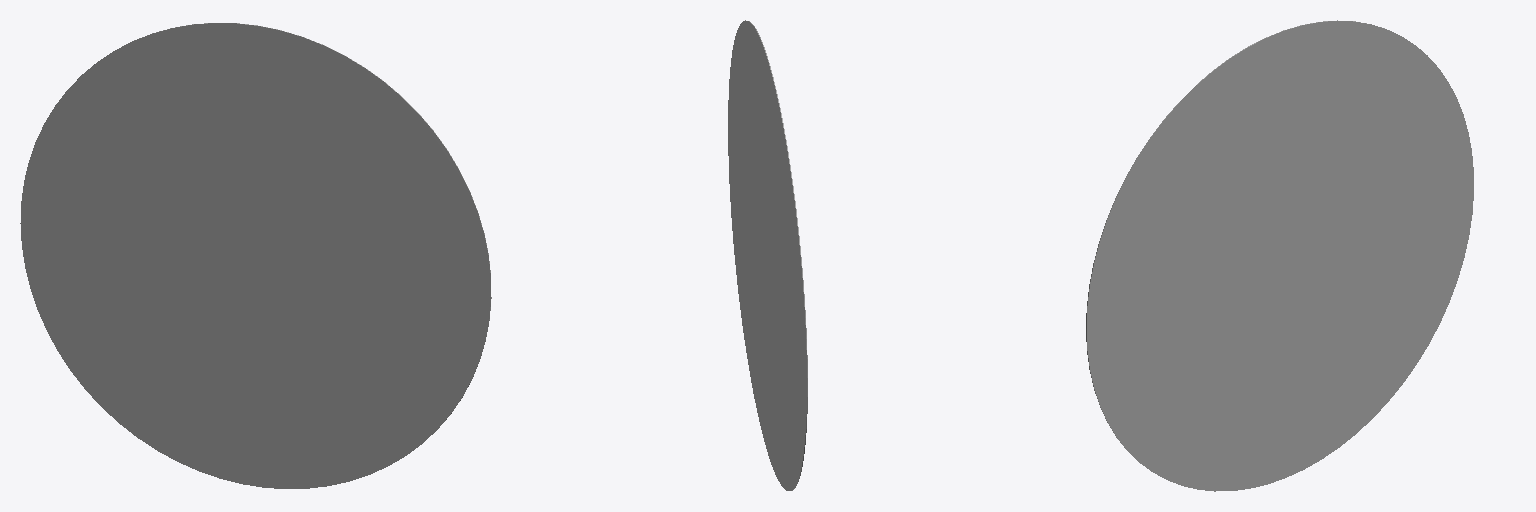
robot.urdf — robotic:
<?xml version="1.0" ?>
<!-- =================================================================================== -->
<!-- |    This document was autogenerated by xacro from [local-path]/flipkart_ws/src/robotic_description/urdf/robotic.xacro | -->
<!-- |    EDITING THIS FILE BY HAND IS NOT RECOMMENDED                                 | -->
<!-- =================================================================================== -->
<robot name="robotic">
    <material name="silver">
        <color rgba="0.700 0.700 0.700 1.000" />
    </material>
    <link name="dummy" />
    <joint name="dummy_joint" type="fixed">
        <parent link="dummy" />
        <child link="base_link" />
    </joint>
    <link name="base_link">
        <inertial>
            <origin rpy="0 0 0" xyz="0.1351124948669782 -0.42068294522758753 0.2341784066776522" />
            <mass value="777.7493009183014" />
            <inertia ixx="135.532532" ixy="3.178232" ixz="0.036953" iyy="109.450515" iyz="3.236105" izz="135.60657" />
        </inertial>
        <visual>
            <origin rpy="0 0 0" xyz="0 0 0.21" />
            <geometry>
                <mesh filename="package://robotic_description/mesh/base_link.stl" scale="0.001 0.001 0.001" />
            </geometry>
            <material name="silver" />
        </visual>
        <collision>
            <origin rpy="0 0 0" xyz="0 0 0.21" />
            <geometry>
                <mesh filename="package://robotic_description/mesh/base_link.stl" scale="0.001 0.001 0.001" />
            </geometry>
        </collision>
    </link>
    <link name="arm_1">
        <inertial>
            <origin rpy="0 0 0" xyz="-0.025327304313694593 1.83695537267492e-07 0.15747269850712742" />
            <mass value="3.4188971292058414" />
            <inertia ixx="0.018482" ixy="0.0" ixz="0.003682" iyy="0.031796" iyz="-0.0" izz="0.018214" />
        </inertial>
        <visual>
            <origin rpy="0 0 0" xyz="-0.144802 0.073927 -0.644082" />
            <geometry>
                <mesh filename="package://robotic_description/mesh/arm_1.stl" scale="0.001 0.001 0.001" />
            </geometry>
            <material name="silver" />
        </visual>
        <collision>
            <origin rpy="0 0 0" xyz="-0.144802 0.073927 -0.644082" />
            <geometry>
                <mesh filename="package://robotic_description/mesh/arm_1.stl" scale="0.001 0.001 0.001" />
            </geometry>
        </collision>
    </link>
    <link name="end_1">
        <inertial>
            <origin rpy="0 0 0" xyz="-0.07035008395779202 2.005916116543105e-07 -0.05982240354354046" />
            <mass value="0.28541935964994736" />
            <inertia ixx="0.001098" ixy="0.0" ixz="-4e-05" iyy="0.001844" iyz="0.0" izz="0.001696" />
        </inertial>
        <visual>
            <origin rpy="0 0 0" xyz="-0.219802 -0.616073 -0.154082" />
            <geometry>
                <mesh filename="package://vinci_bot_description/meshes/end_1.stl" scale="0.001 0.001 0.001" />
            </geometry>
            <material name="silver" />
        </visual>
        <collision>
            <origin rpy="0 0 0" xyz="-0.219802 -0.616073 -0.154082" />
            <geometry>
                <mesh filename="package://vinci_bot_description/meshes/end_1.stl" scale="0.001 0.001 0.001" />
            </geometry>
        </collision>
    </link>
    <link name="hand_1">
        <inertial>
            <origin rpy="0 0 0" xyz="0.06495053474908702 2.417388758058081e-07 -0.3250315992683306" />
            <mass value="8.616717936895942" />
            <inertia ixx="0.616811" ixy="-0.0" ixz="0.028145" iyy="0.63362" iyz="0.0" izz="0.029126" />
        </inertial>
        <visual>
            <origin rpy="0 0 0" xyz="-0.069802 -0.616073 -0.844082" />
            <geometry>
                <mesh filename="package://vinci_bot_description/meshes/hand_1.stl" scale="0.001 0.001 0.001" />
            </geometry>
            <material name="silver" />
        </visual>
        <collision>
            <origin rpy="0 0 0" xyz="-0.069802 -0.616073 -0.844082" />
            <geometry>
                <mesh filename="package://vinci_bot_description/meshes/hand_1.stl" scale="0.001 0.001 0.001" />
            </geometry>
        </collision>
    </link>
    <link name="forearm_1">
        <inertial>
            <origin rpy="0 0 0" xyz="-0.07500037778459376 0.3450001901687444 6.919054307275019e-08" />
            <mass value="6.806430258689737" />
            <inertia ixx="0.40369" ixy="-0.0" ixz="-0.0" iyy="0.012647" iyz="0.0" izz="0.405107" />
        </inertial>
        <visual>
            <origin rpy="0 0 0" xyz="-0.069802 0.073927 -0.844082" />
            <geometry>
                <mesh filename="package://vinci_bot_description/meshes/forearm_1.stl" scale="0.001 0.001 0.001" />
            </geometry>
            <material name="silver" />
        </visual>
        <collision>
            <origin rpy="0 0 0" xyz="-0.069802 0.073927 -0.844082" />
            <geometry>
                <mesh filename="package://vinci_bot_description/meshes/forearm_1.stl" scale="0.001 0.001 0.001" />
            </geometry>
        </collision>
    </link>
    <joint name="joint4" type="continuous">
        <origin rpy="0 0 0" xyz="0.144802 -0.073927 0.854082" />
        <parent link="base_link" />
        <child link="arm_1" />
        <axis xyz="0.0 0.0 1.0" />
        <!-- <limit effort="500" lower="-3.14" upper="3.14" velocity="7.5" /> -->
    </joint>
    <transmission name="joint4_tran">
        <type>transmission_interface/SimpleTransmission</type>
        <joint name="joint4">
            <hardwareInterface>hardware_interface/EffortJointInterface</hardwareInterface>
        </joint>
        <actuator name="joint4_actr">
            <hardwareInterface>hardware_interface/EffortJointInterface</hardwareInterface>
            <mechanicalReduction>1</mechanicalReduction>
        </actuator>
    </transmission>
    <joint name="joint1" type="continuous">
        <origin rpy="0 0 0" xyz="0.15 0.0 -0.69" />
        <parent link="hand_1" />
        <child link="end_1" />
        <axis xyz="-1.0 -0.0 -0.0" />
        <!-- <limit effort="50" lower="-3.14" upper="3.14" velocity="7.5" /> -->
    </joint>
    <transmission name="joint1_tran">
        <type>transmission_interface/SimpleTransmission</type>
        <joint name="joint1">
            <hardwareInterface>hardware_interface/EffortJointInterface</hardwareInterface>
        </joint>
        <actuator name="joint1_actr">
            <hardwareInterface>hardware_interface/EffortJointInterface</hardwareInterface>
            <mechanicalReduction>1</mechanicalReduction>
        </actuator>
    </transmission>
    <joint name="joint2" type="continuous">
        <origin rpy="0 0 0" xyz="0.0 0.69 0.0" />
        <parent link="forearm_1" />
        <child link="hand_1" />
        <axis xyz="1.0 0.0 0.0" />
        <!-- <limit effort="50" lower="-3.14" upper="3.14" velocity="7.5" /> -->
    </joint>
    <transmission name="joint2_tran">
        <type>transmission_interface/SimpleTransmission</type>
        <joint name="joint2">
            <hardwareInterface>hardware_interface/EffortJointInterface</hardwareInterface>
        </joint>
        <actuator name="joint2_actr">
            <hardwareInterface>hardware_interface/EffortJointInterface</hardwareInterface>
            <mechanicalReduction>1</mechanicalReduction>
        </actuator>
    </transmission>
    <joint name="joint3" type="continuous">
        <origin rpy="0 0 0" xyz="-0.075 0.0 0.2" />
        <parent link="arm_1" />
        <child link="forearm_1" />
        <axis xyz="1.0 0.0 0.0" />
        <!-- <limit effort="500" lower="-3.14" upper="3.14" velocity="7.5" /> -->
    </joint>
    <transmission name="joint3_tran">
        <type>transmission_interface/SimpleTransmission</type>
        <joint name="joint3">
            <hardwareInterface>hardware_interface/EffortJointInterface</hardwareInterface>
        </joint>
        <actuator name="joint3_actr">
            <hardwareInterface>hardware_interface/EffortJointInterface</hardwareInterface>
            <mechanicalReduction>1</mechanicalReduction>
        </actuator>
    </transmission>
    <!-- <gazebo>
    <plugin name="gazebo_ros_control" filename="libgazebo_ros_control.so">
    </plugin>
</gazebo> -->
    <gazebo>
        <plugin filename="libgazebo_ros_control.so" name="gazebo_ros_control">
            <!-- <robotNamespace>/robotic</robotNamespace>  -->
            <robotNamespace>/</robotNamespace>
        </plugin>
    </gazebo>
</robot>

--- What the picture shows (computed from the rendered views, not written in the file) ---
Views: 3 orthographic renders of the robot side by side, from view 1: azimuth 30°, elevation 25°; view 2: azimuth 150°, elevation 25°; view 3: azimuth 270°, elevation 25°.
Model robotic with 6 links and 5 joints (4 continuous, 1 fixed), rooted at dummy, posed every joint at zero.
Links seen in each view (by area): view 1: end_1; view 2: end_1; view 3: end_1.
Boxes of the visible links, <box> form: end_1: <box>20,23,491,488</box>; end_1: <box>728,20,807,490</box>; end_1: <box>1086,20,1473,491</box>.
Bounding box of the posed robot: 0.0351 × 0.0425 × 0.055 m (x, y, z).
Meshes: 5 distinct files referenced, 1 mesh visuals loaded (1 binary STL); not drawn: 4 (reference not matched to a file when rendering).